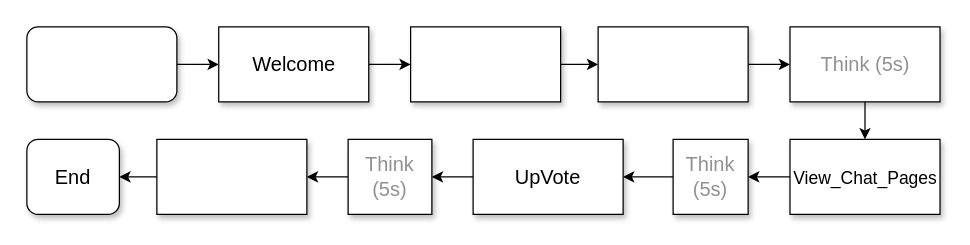
Image size: 970x245. Some labels were removed from this diagram. The shapes that lost their labels are listed below. From the top down, each one's centre as x and y in pixels, then its label:
At point 102,66: "Start".
At point 486,66: "Login".
At point 674,66: "Index_Page".
At point 232,178: "DownVote".
